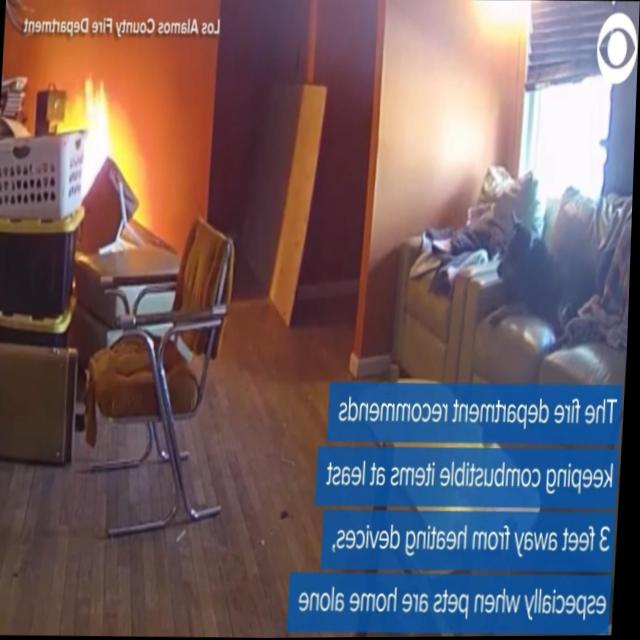fire: (59, 70, 113, 200)
